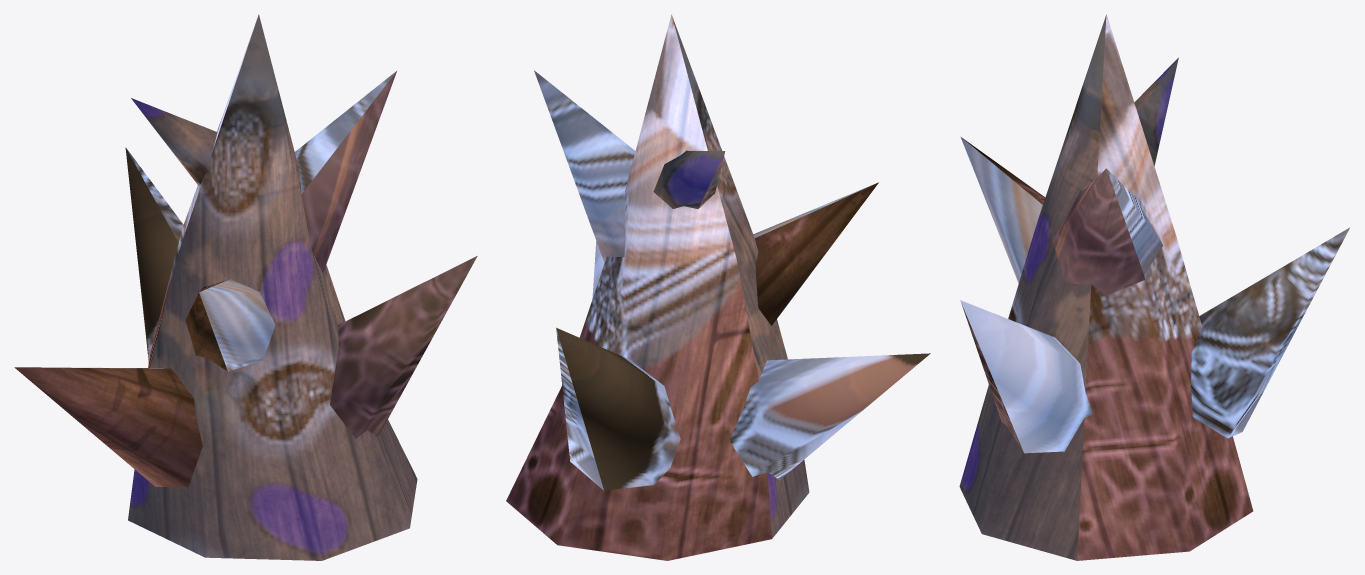
File: spike2.fbx
3 renders of one model, left to right at view 1: azimuth 30°, elevation 25°; view 2: azimuth 150°, elevation 25°; view 3: azimuth 270°, elevation 25°, orthographic. The views are drawn at different scales.
Visible parts, largest first — view 1: untitled.001; view 2: untitled.001; view 3: untitled.001.
Boxes of the visible parts, left/top/right/bottom form: untitled.001: left=14, top=14, right=477, bottom=560; untitled.001: left=506, top=14, right=930, bottom=560; untitled.001: left=959, top=14, right=1349, bottom=560.
Size of the model in its own units: 170 by 200 by 148.
